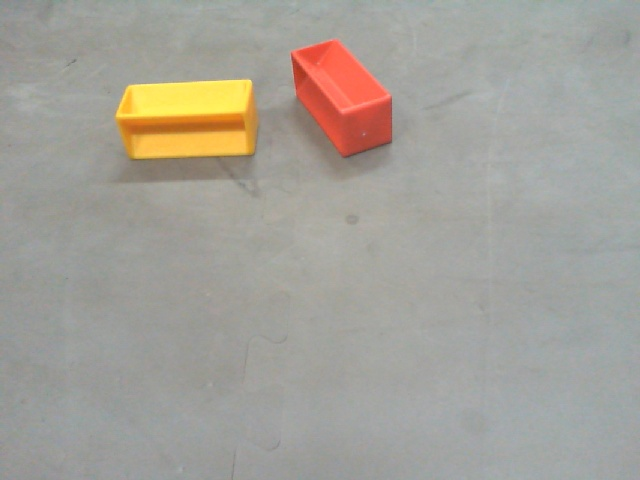RedSample: (288, 36, 395, 158)
YellowSample: (113, 73, 261, 164)
